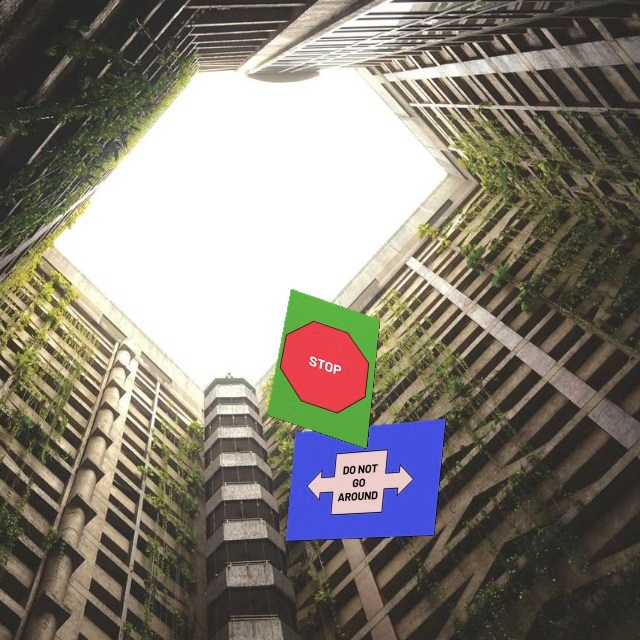DO_NOT_GO_AROUND: (302, 446, 419, 520)
STOP: (273, 312, 376, 422)
